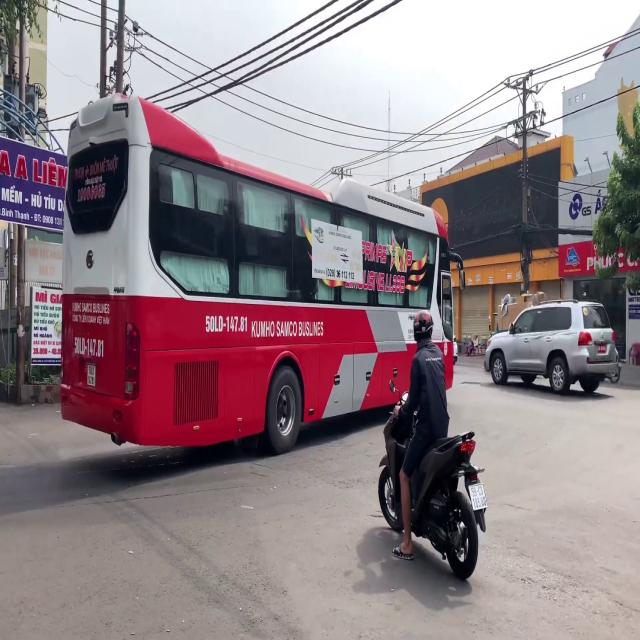bien_trang: (468, 485, 488, 511), (88, 364, 96, 389)
